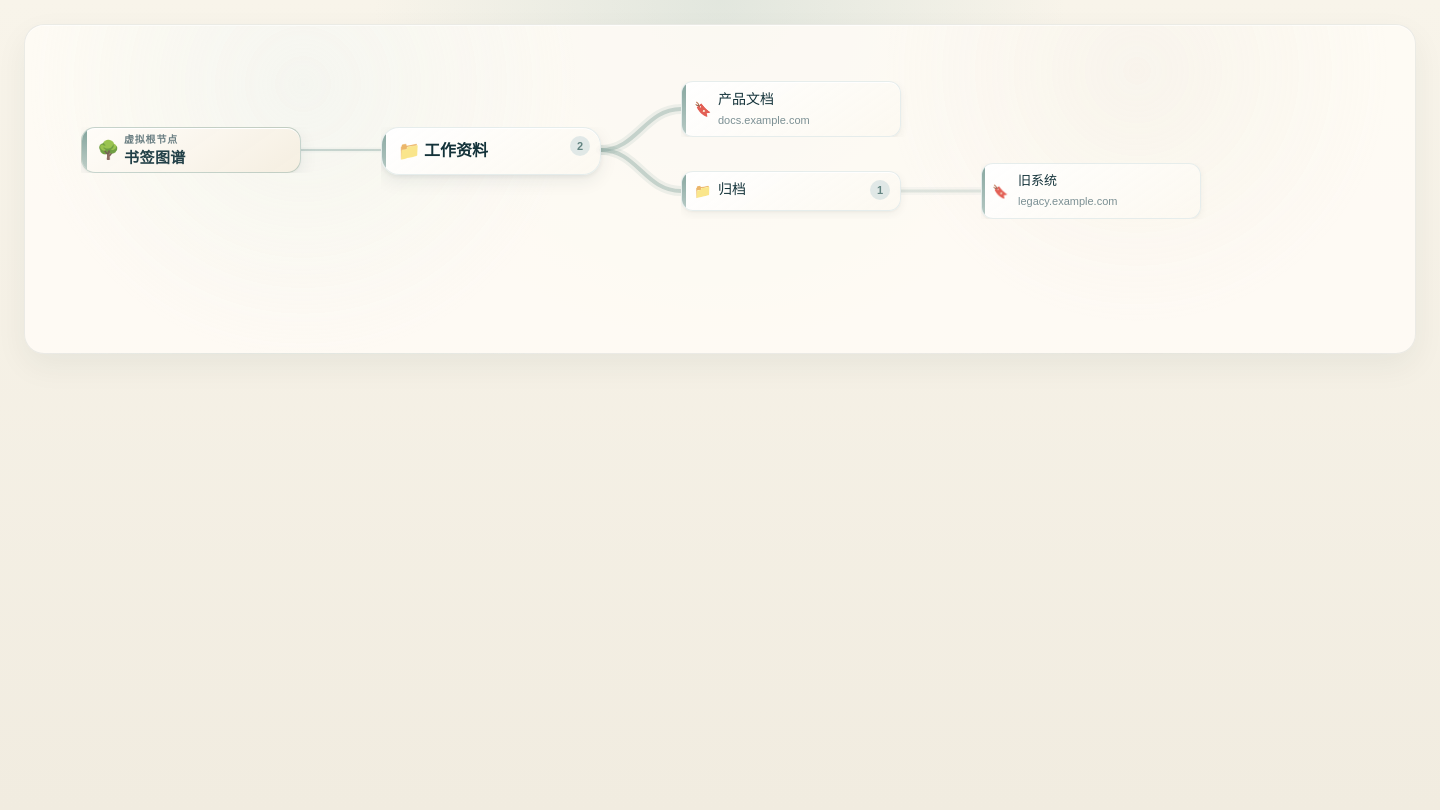
Test: T06 draft graph workspace interaction gate › Shift+Enter opens same-level creation so a top-level node can create a new root sibling without relying on virtual root interactions
Click the button with aria-label "目录节点：工作资料" at [491, 151], box [381,127,601,175]
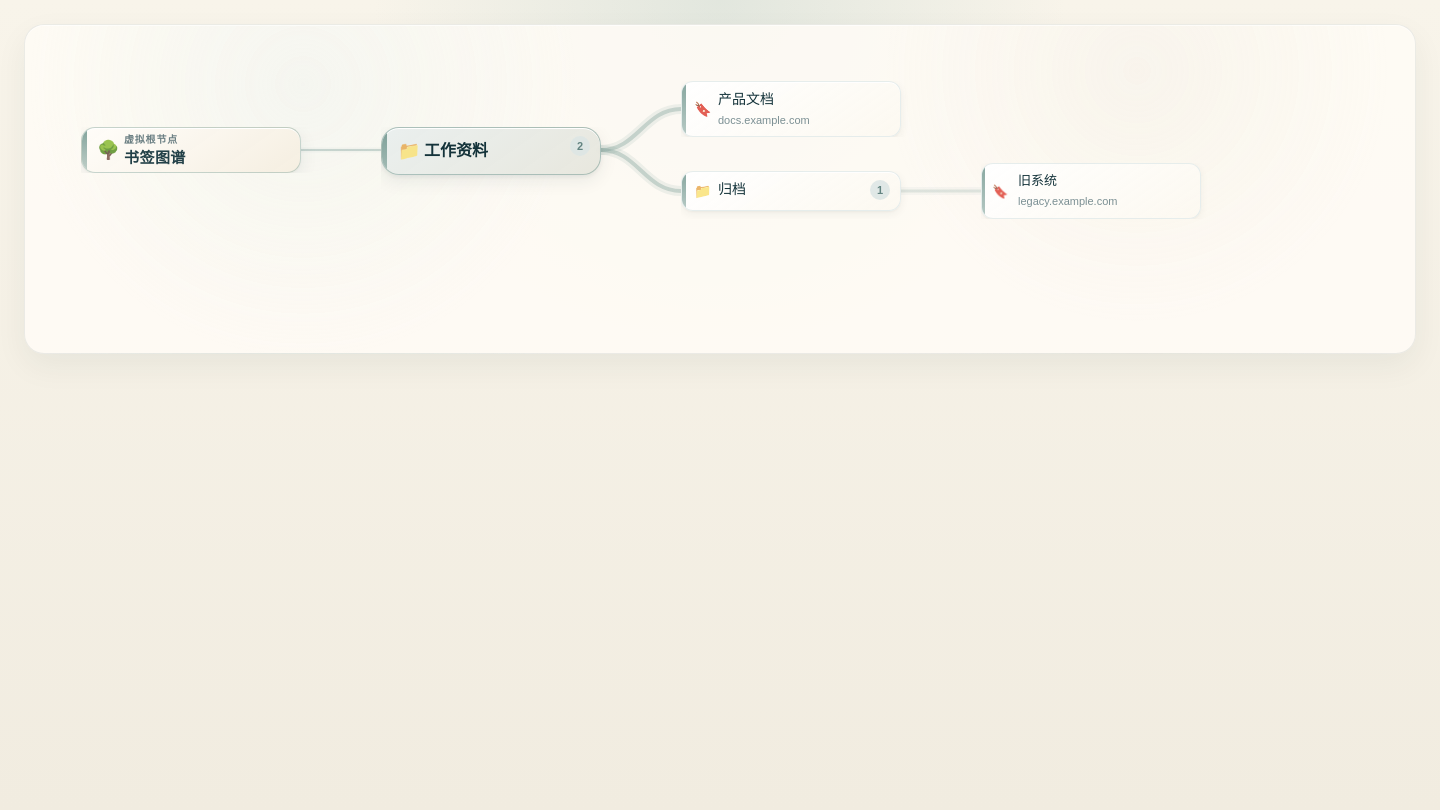
Press Enter in the button with aria-label "目录节点：工作资料", box [381,127,601,175]
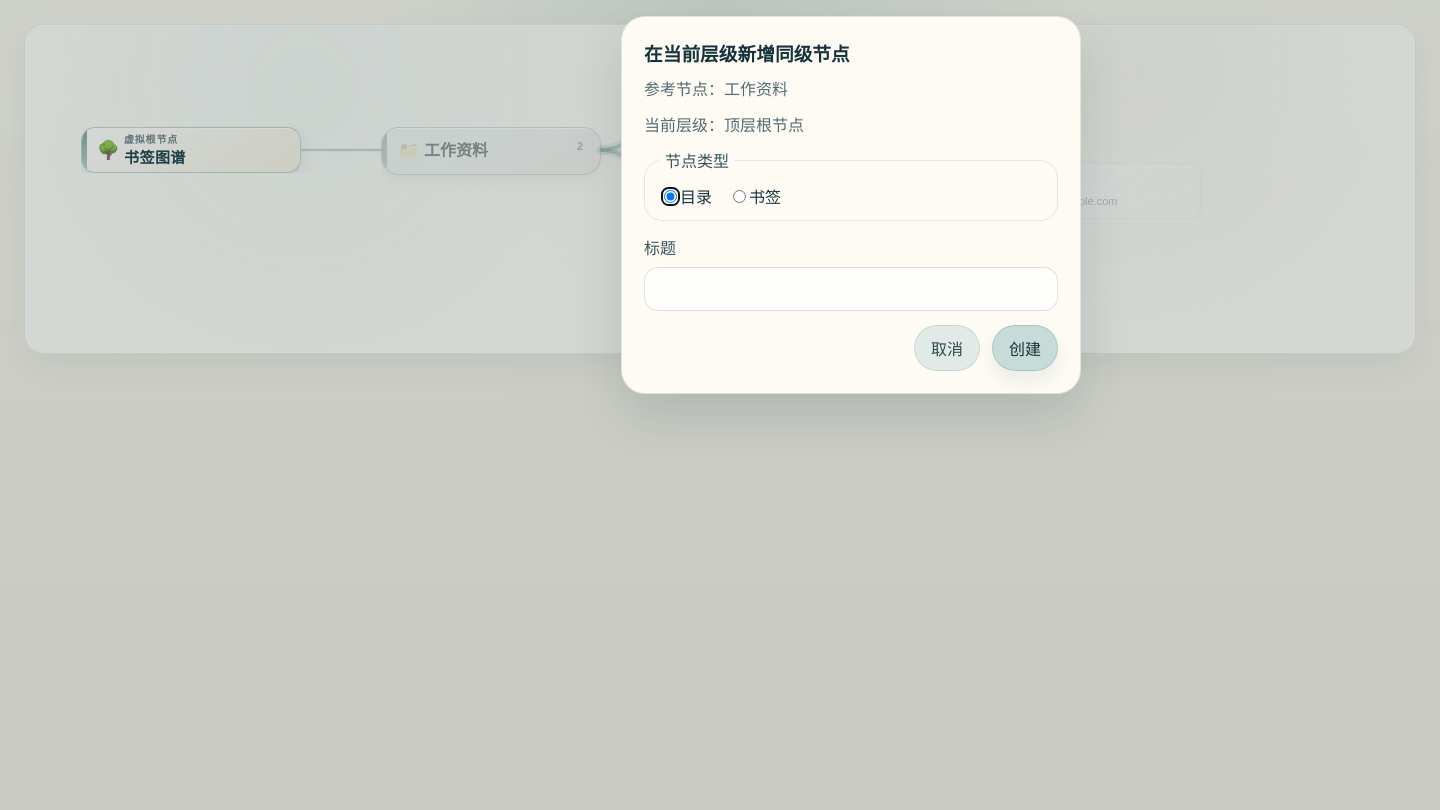
Check: the dialog is shown
Check: the text "参考节点：工作资料" is shown, box [644,81,788,98]
Check: the text "当前层级：顶层根节点" is shown, box [644,117,804,134]
Type "个人资料" into the field labelled "标题" at [851, 289], box [644,267,1058,311]
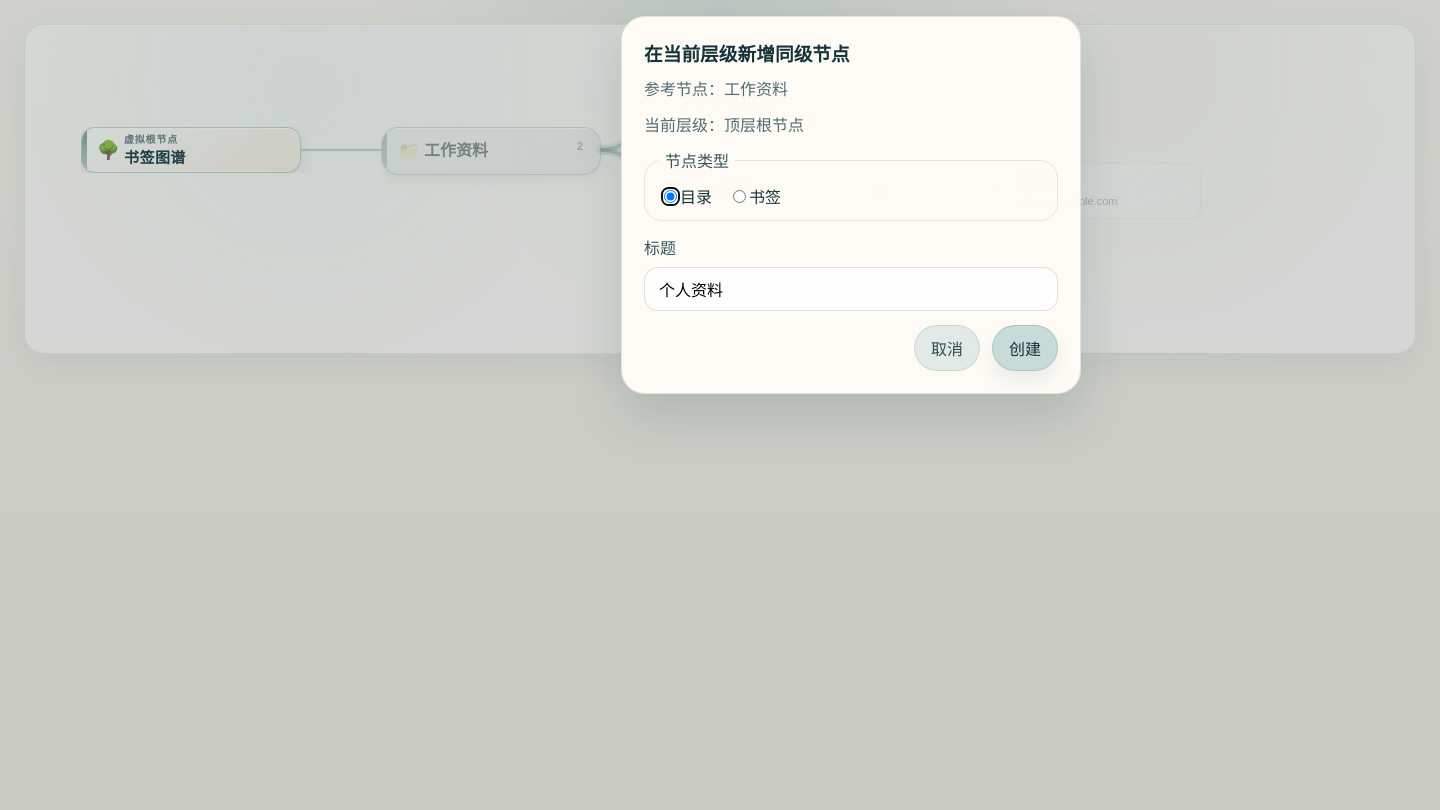
Click the button "创建" at [1025, 348], box [992,325,1058,371]
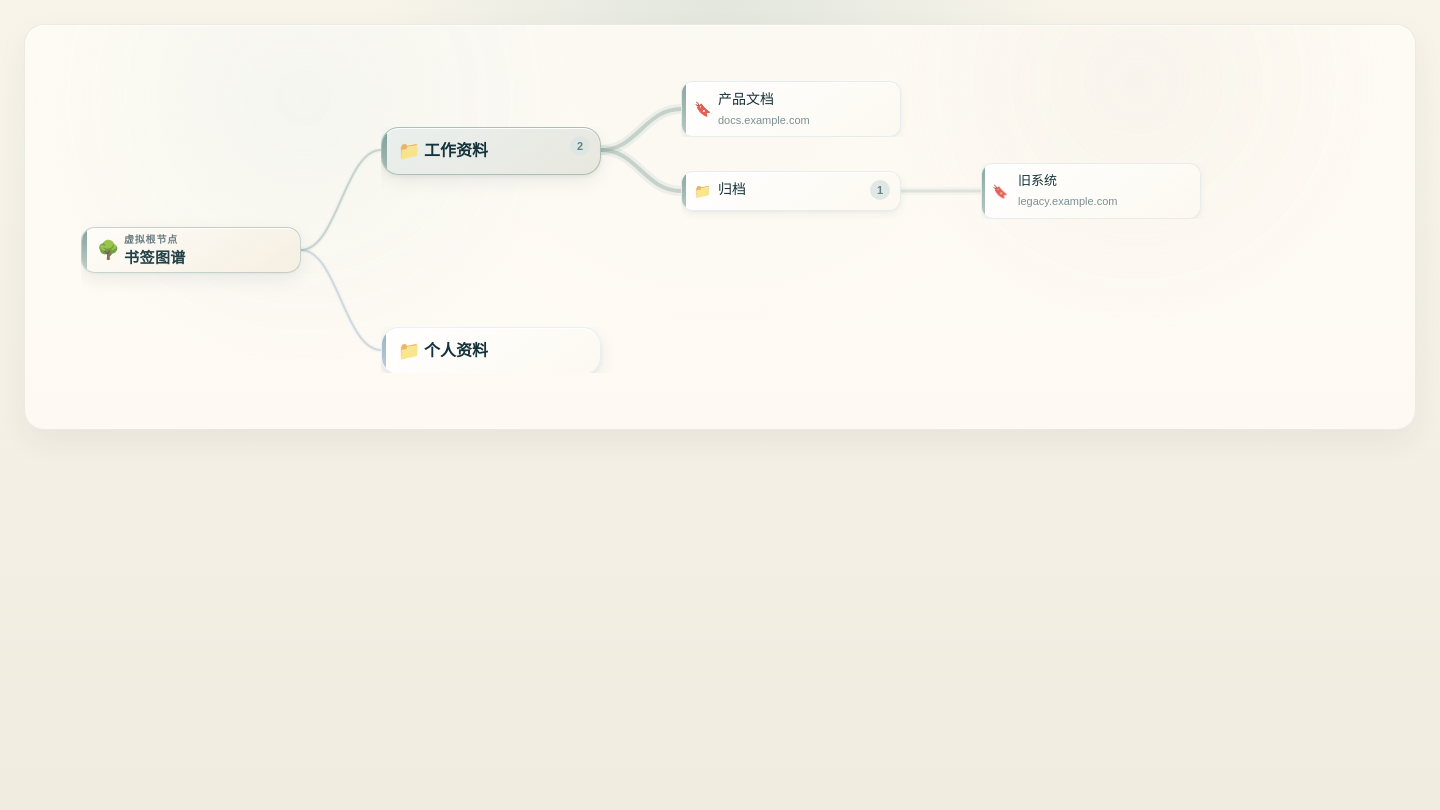
Check: the button with aria-label "目录节点：个人资料" is shown, box [381,327,601,375]
